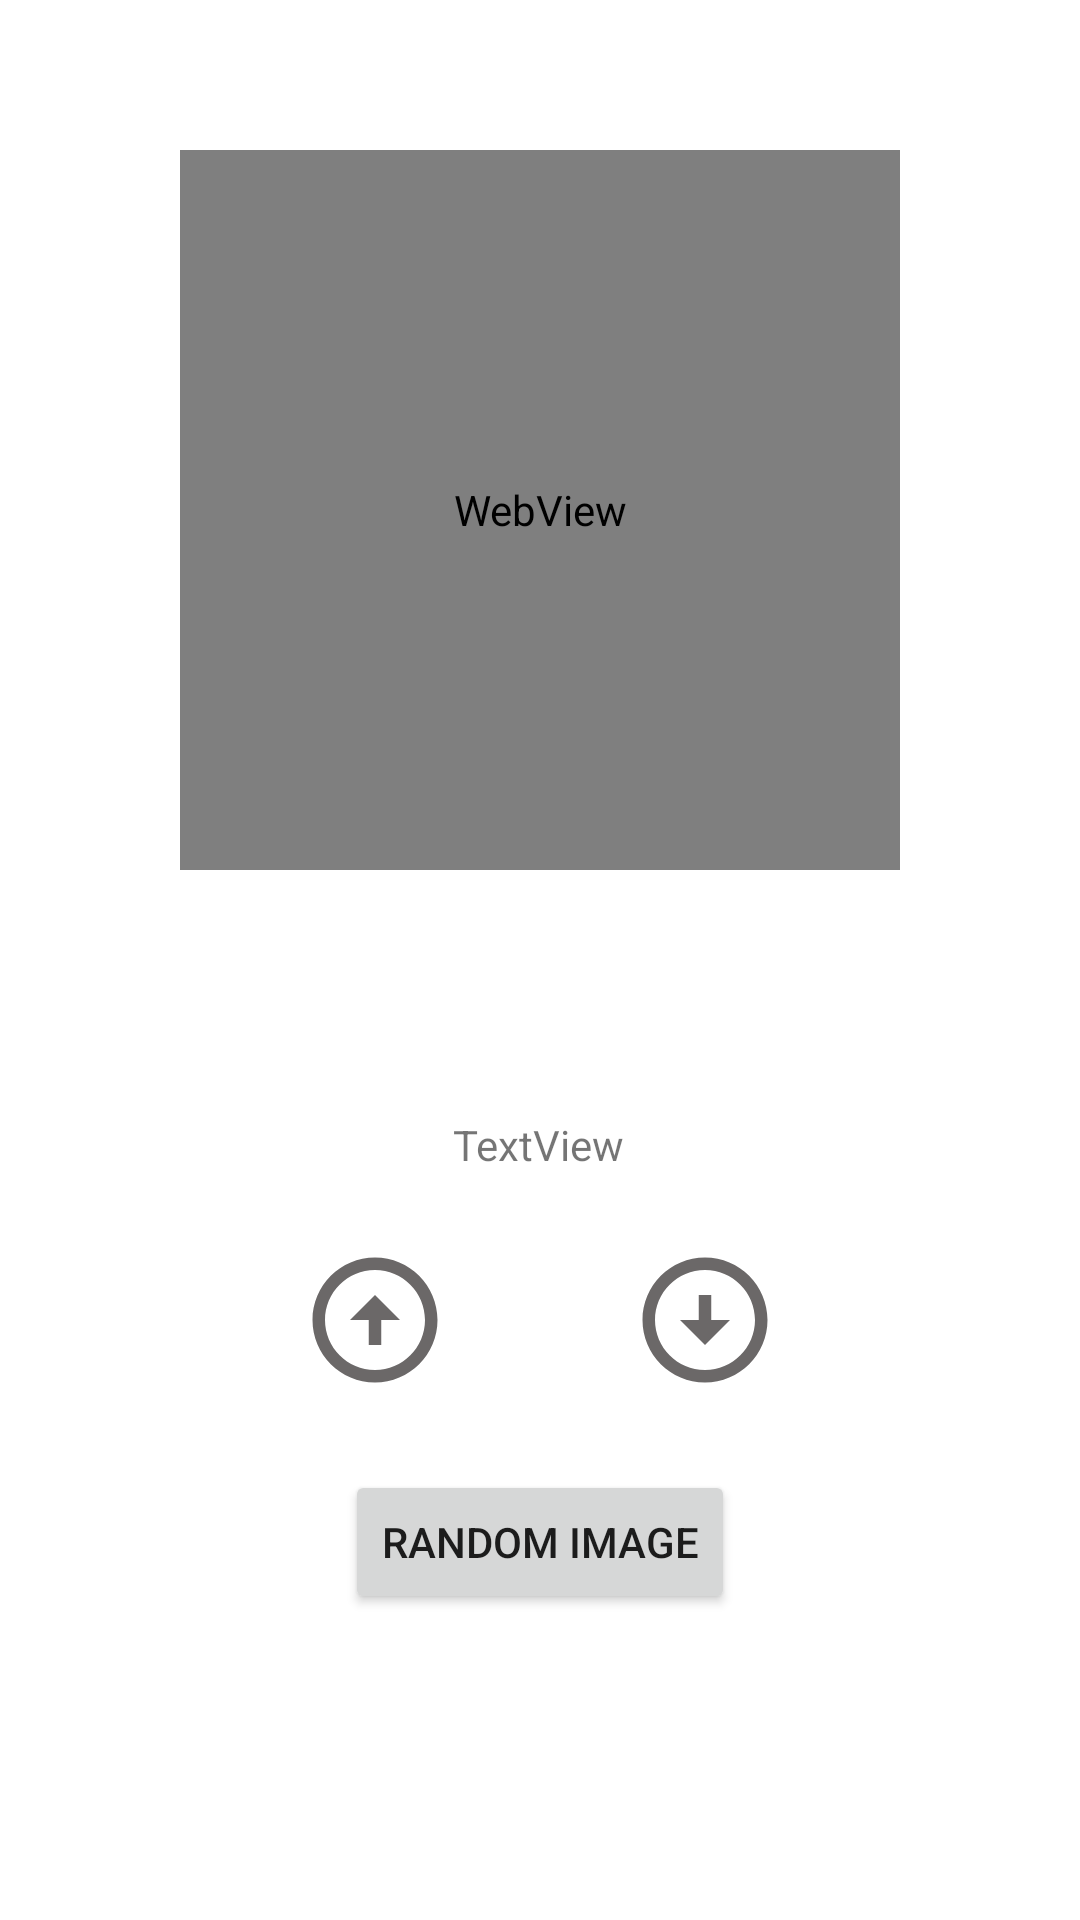

Where to tap for icons on this 1080w x 1920h app screen, as [x,y]:
arrow circle down: [705,1320]
arrow circle up: [375,1320]
